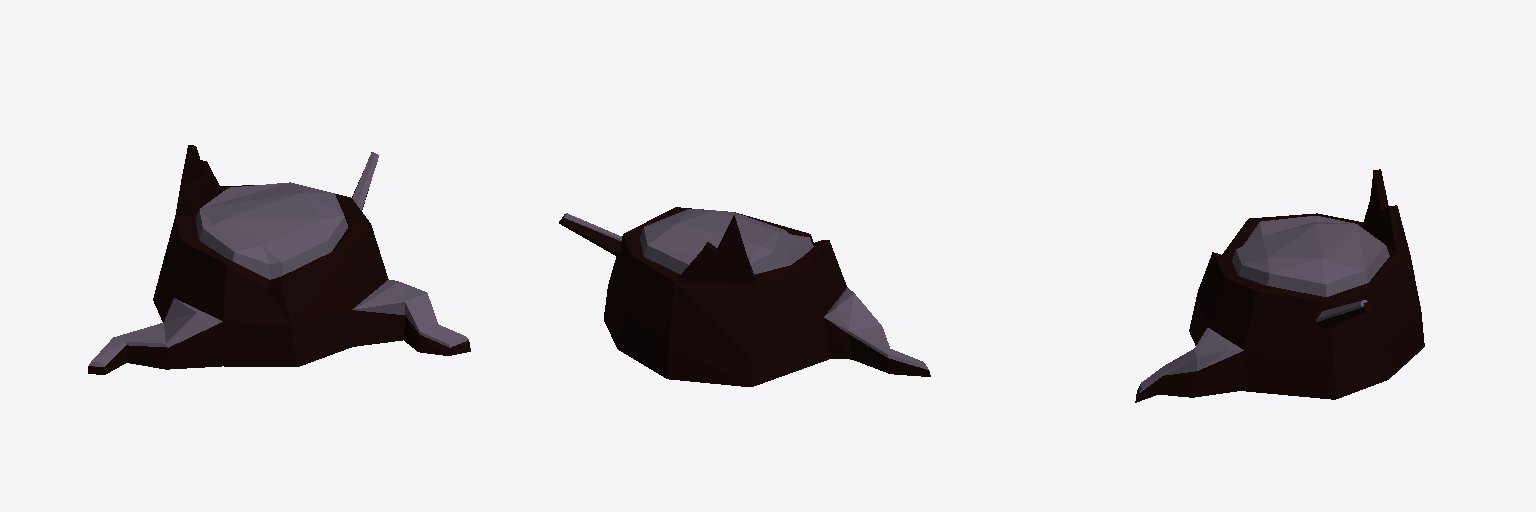
Rendered from TreeStump_Snow.obj.
The picture shows the model from 3 angles: view 1: azimuth 30°, elevation 25°; view 2: azimuth 150°, elevation 25°; view 3: azimuth 270°, elevation 25°; orthographic projection.
Parts seen in each view (by area): view 1: TreeStump_Snow_Cylinder.021; view 2: TreeStump_Snow_Cylinder.021; view 3: TreeStump_Snow_Cylinder.021.
Boxes of the visible parts, x1=… form: TreeStump_Snow_Cylinder.021: x1=88, y1=145, x2=470, y2=374; TreeStump_Snow_Cylinder.021: x1=559, y1=207, x2=930, y2=386; TreeStump_Snow_Cylinder.021: x1=1135, y1=169, x2=1424, y2=402.
Bounding box in the file's own units: 1.36 × 0.6216 × 1.03.